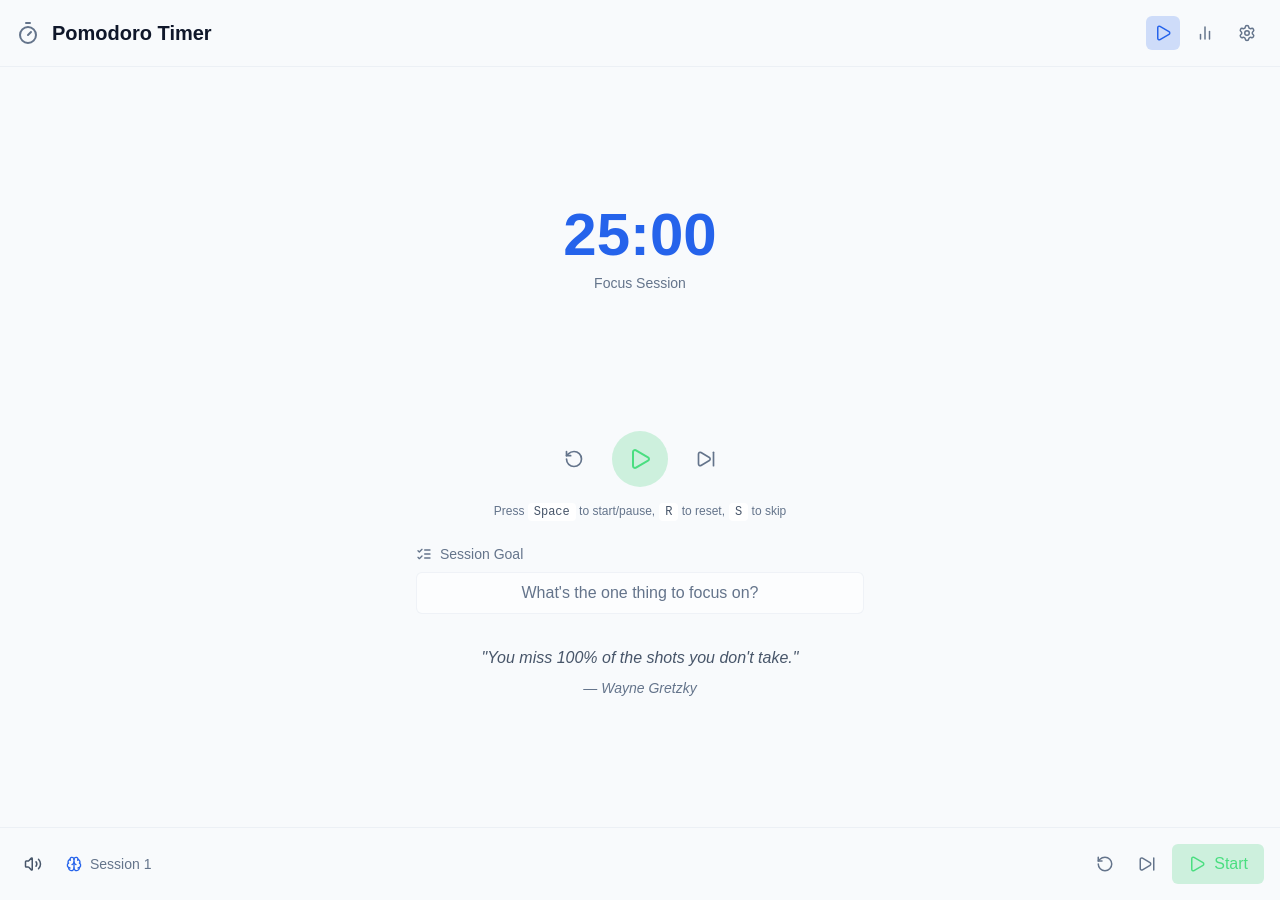
Test case: PomodoroTablet › view navigation › should return to timer view from settings
Click the button named "Settings" at (1247, 33), box [1230, 16, 1264, 50]
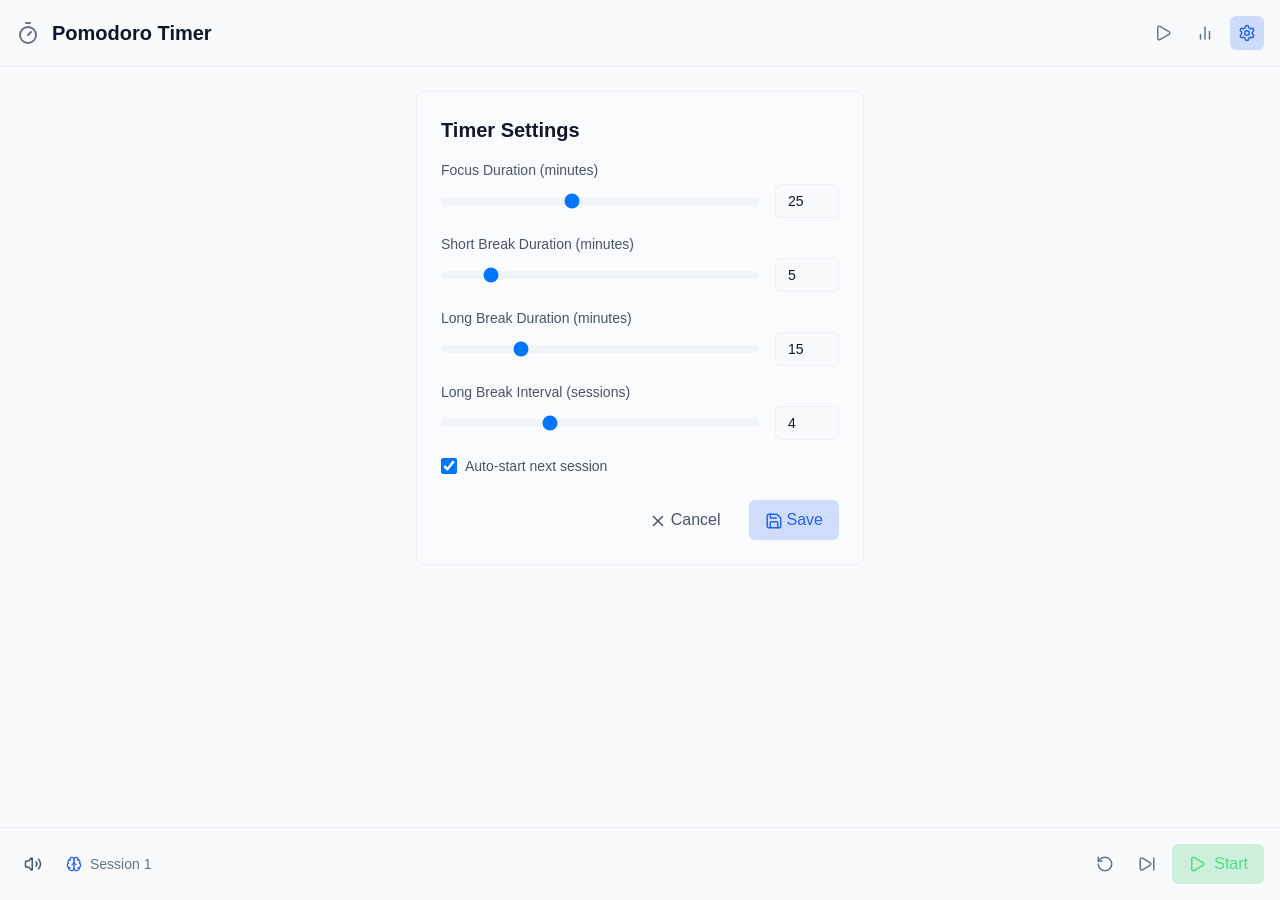
Expected: the heading "Timer Settings" is shown, [441, 119, 580, 141]
Note: Cancel back to timer
Click the button "Cancel" at (685, 520), box [633, 500, 736, 540]
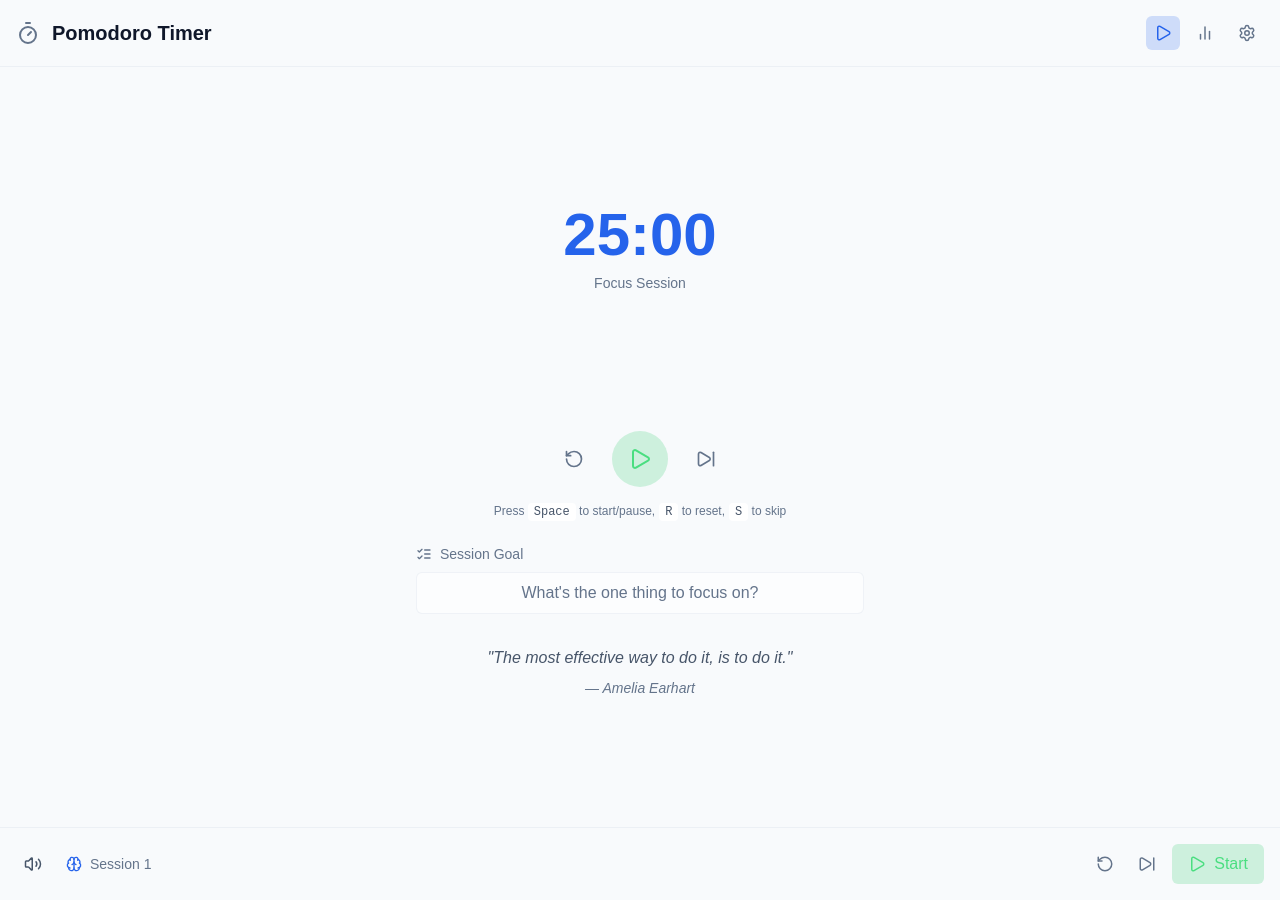
Expected: the text "Focus Session" is shown, [594, 273, 686, 293]
